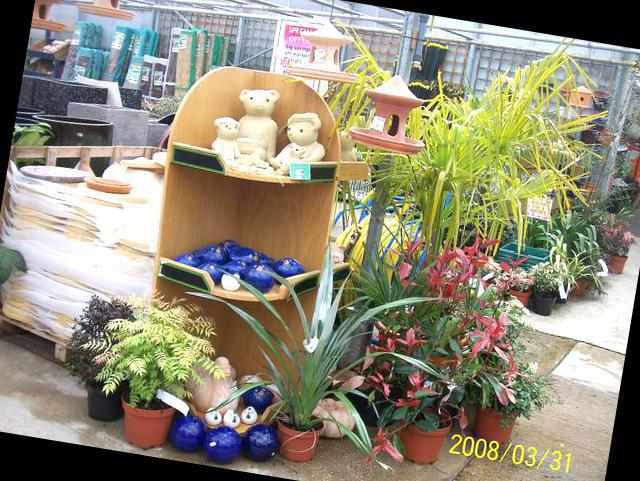Matera: (347, 36, 574, 414), (200, 248, 375, 474), (346, 257, 490, 481), (102, 281, 223, 458), (63, 288, 156, 433), (464, 340, 551, 458), (555, 224, 608, 308), (495, 246, 539, 313), (602, 216, 639, 279), (529, 260, 565, 315)
